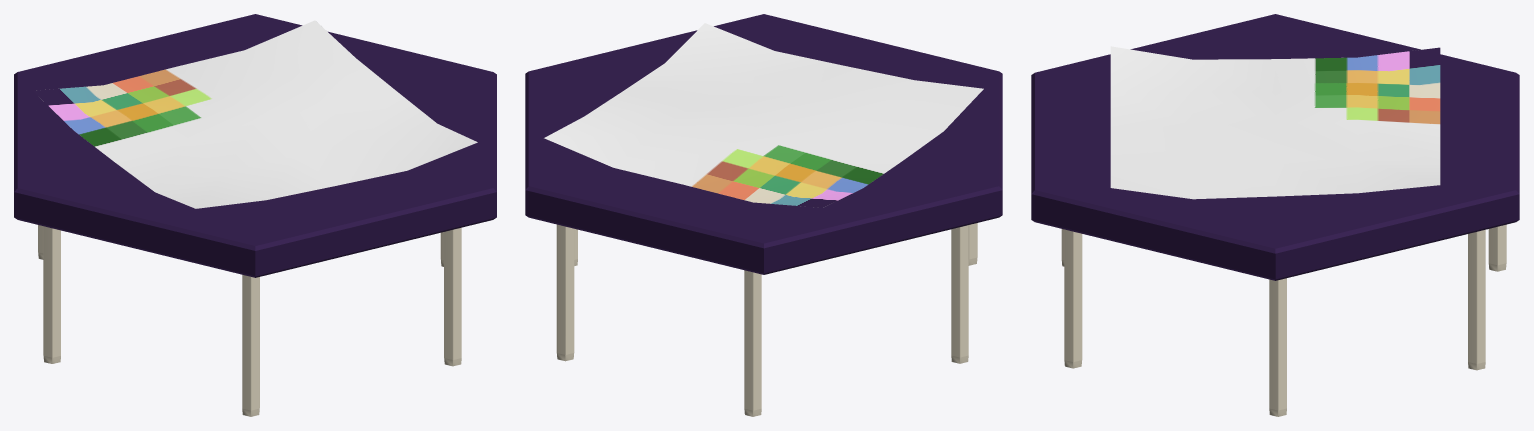
The model's file is tbale.fbx.
The picture shows the model from 3 angles, left to right: view 1: azimuth 30°, elevation 25°; view 2: azimuth 150°, elevation 25°; view 3: azimuth 270°, elevation 25°; orthographic projection. The views are drawn at different scales.
Parts seen in each view (by area): view 1: pCylinder1, pPlane1, pCylinder3, pCylinder4, pCylinder2; view 2: pCylinder1, pPlane1, pCylinder7, pCylinder6, pCylinder2; view 3: pCylinder1, pPlane1, pCylinder4, pCylinder6, pCylinder5, pCylinder7.
Boxes of the visible parts, bbox=[...] form: pCylinder1: bbox=[14, 14, 496, 277]; pPlane1: bbox=[33, 20, 477, 208]; pCylinder3: bbox=[242, 275, 259, 416]; pCylinder4: bbox=[444, 227, 461, 366]; pCylinder2: bbox=[43, 226, 60, 363]; pCylinder1: bbox=[525, 14, 1002, 274]; pPlane1: bbox=[544, 23, 983, 207]; pCylinder7: bbox=[744, 270, 761, 416]; pCylinder6: bbox=[556, 224, 574, 361]; pCylinder2: bbox=[951, 225, 968, 363]; pCylinder1: bbox=[1031, 14, 1519, 280]; pPlane1: bbox=[1110, 46, 1440, 199]; pCylinder4: bbox=[1064, 229, 1082, 368]; pCylinder6: bbox=[1468, 229, 1485, 370]; pCylinder5: bbox=[1269, 278, 1286, 416]; pCylinder7: bbox=[1488, 224, 1506, 271].
Size of the model in its own units: 2 by 0.7866 by 1.73.
1 material, 1 textured.
